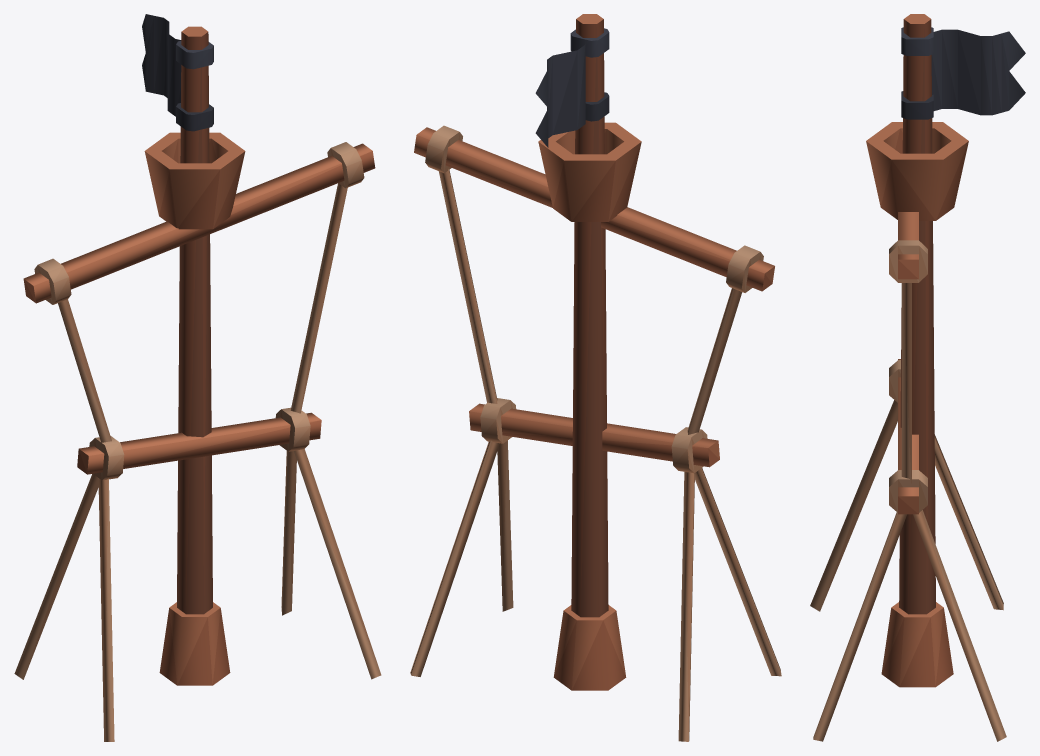
Rendered from pirate_mast_ropes.glb.
3 views of the same model, side by side, from view 1: azimuth 30°, elevation 25°; view 2: azimuth 150°, elevation 25°; view 3: azimuth 270°, elevation 25° (orthographic). The views are drawn at different scales.
Parts seen in each view (by area): view 1: pirate_mast_ropes; view 2: pirate_mast_ropes; view 3: pirate_mast_ropes.
Boxes of the visible parts, box(x1,y1,x2,y2) form: pirate_mast_ropes: box(14, 14, 381, 741); pirate_mast_ropes: box(410, 14, 781, 741); pirate_mast_ropes: box(810, 14, 1025, 741).
Bounding box in the file's own units: 4.39 × 7.89 × 2.35.
